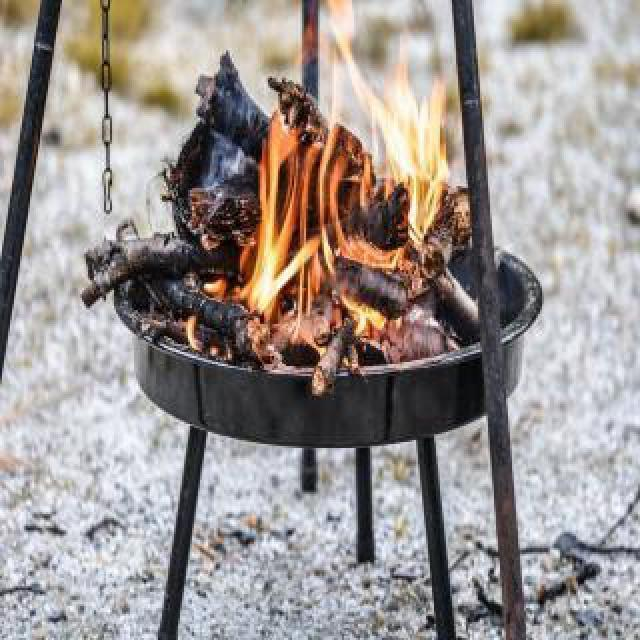Fire: (244, 40, 454, 372)
